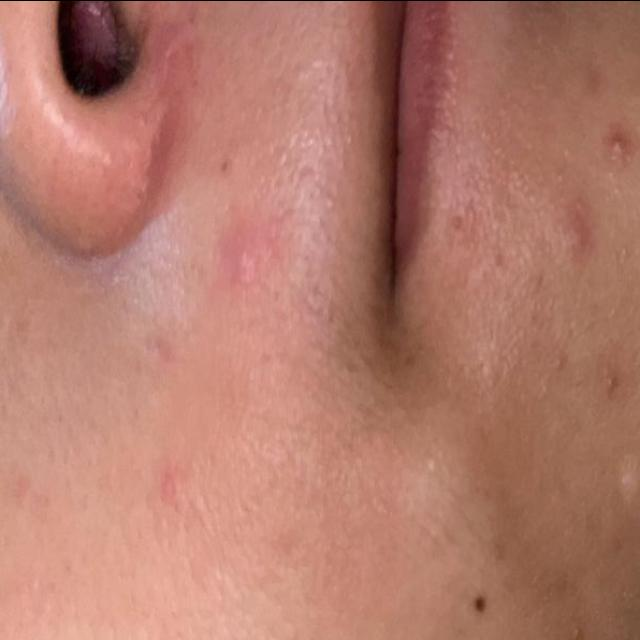papule: (539, 167, 612, 280), (210, 216, 278, 310)
pustule: (585, 117, 640, 169)
